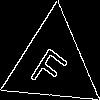F: (27, 38, 75, 93)
